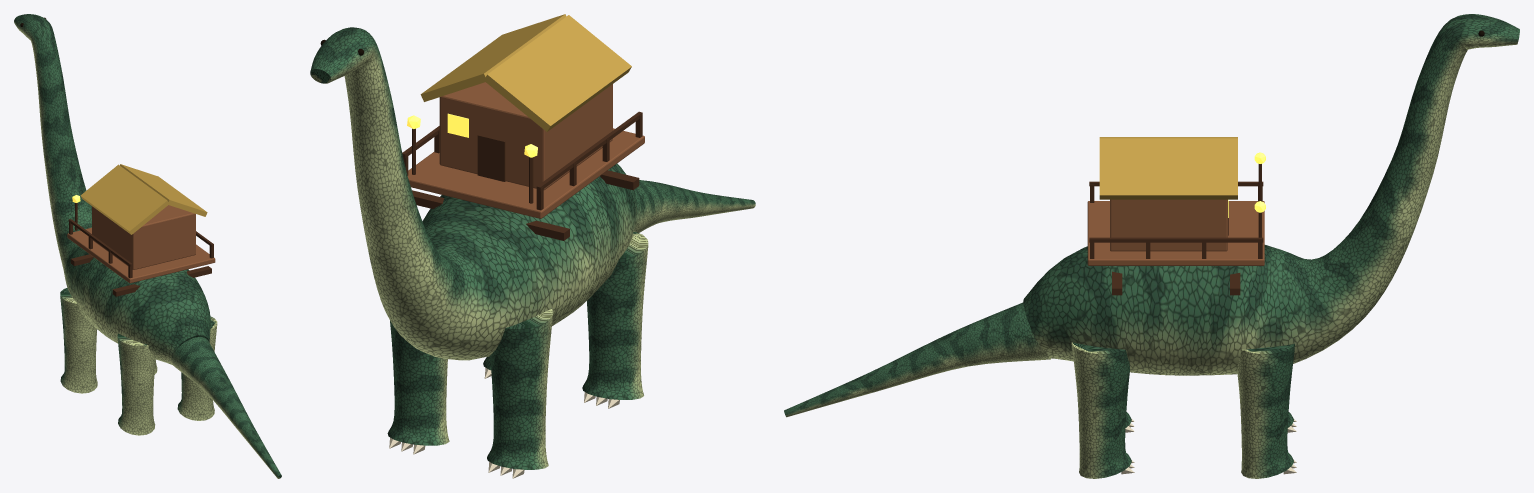
Rendered from bronto.glb.
The picture shows the model from 3 angles, left to right: view 1: azimuth 30°, elevation 25°; view 2: azimuth 150°, elevation 25°; view 3: azimuth 270°, elevation 25°; orthographic projection. The views are drawn at different scales.
Parts seen in each view (by area): view 1: Bronto; view 2: Bronto; view 3: Bronto.
Part boxes in pixels (box(x1,y1,x2,y2)): Bronto: box(14, 14, 281, 478); Bronto: box(310, 14, 755, 478); Bronto: box(784, 14, 1519, 478).
Size of the model in its own units: 10.6 by 32.56 by 49.9.
Materials: 7 (1 with a texture image).
